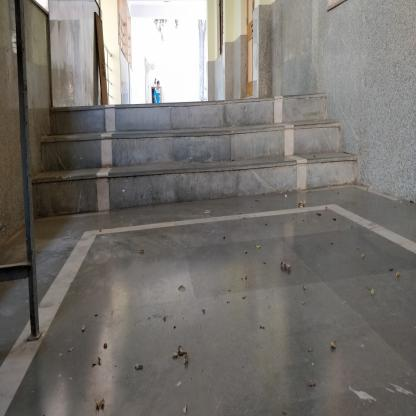stairs: (56, 104, 327, 194)
